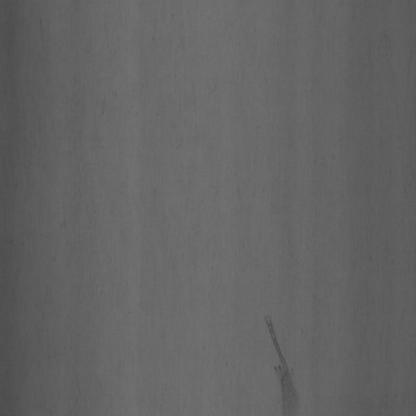water_spot: (254, 304, 304, 416)
